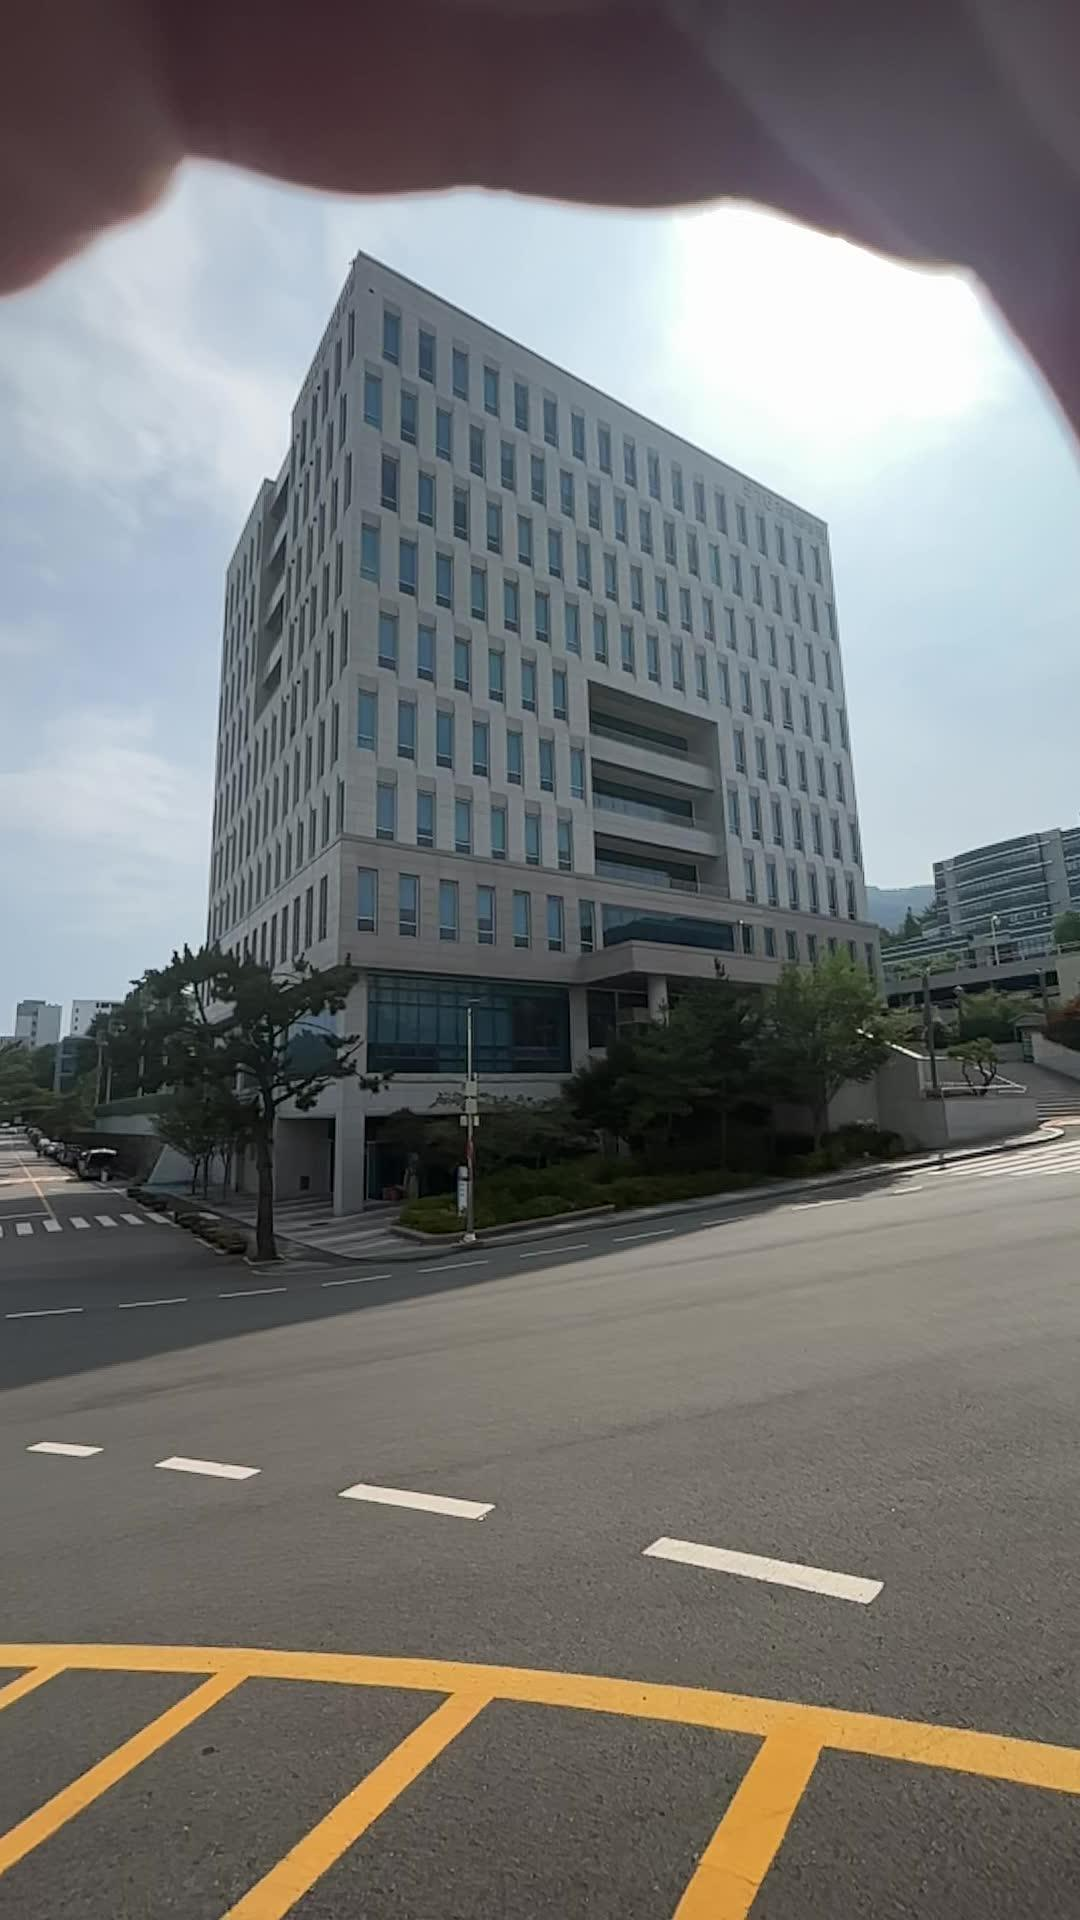building: (135, 252, 882, 971)
